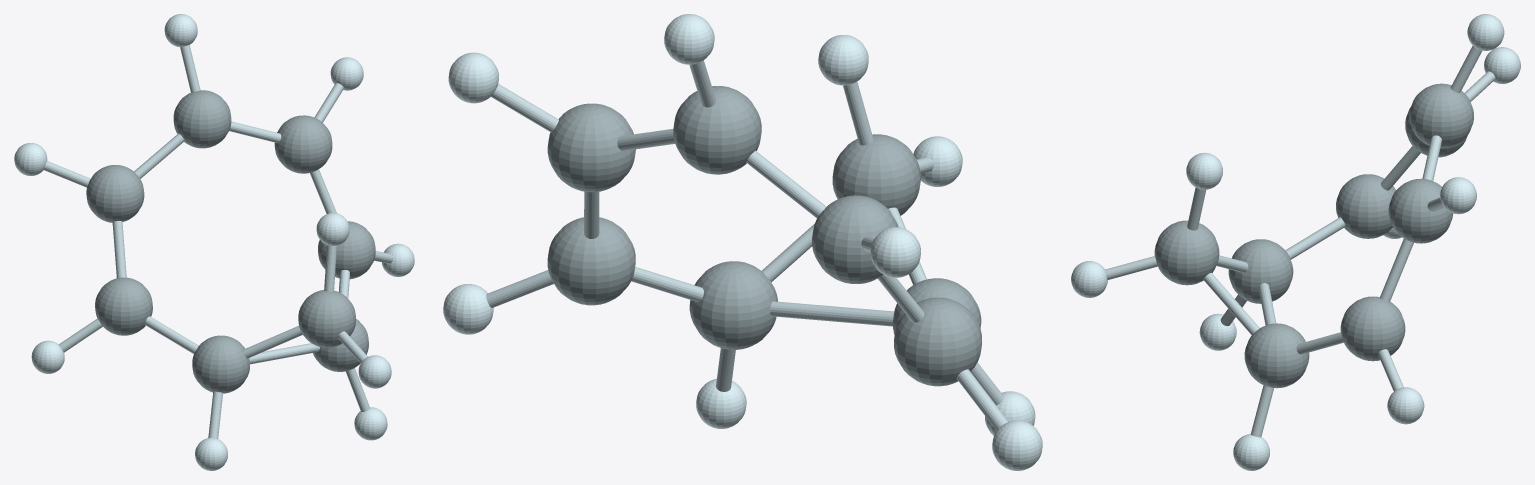
Rendered from irc_step_024.glb.
3 renders of one model, left to right at view 1: azimuth 30°, elevation 25°; view 2: azimuth 150°, elevation 25°; view 3: azimuth 270°, elevation 25°, orthographic. The views are drawn at different scales.
Visible parts, largest first — view 1: Renderer Node; view 2: Renderer Node; view 3: Renderer Node.
Part boxes in pixels (box(x1,y1,x2,y2)): Renderer Node: box(14, 14, 414, 470); Renderer Node: box(443, 14, 1042, 470); Renderer Node: box(1071, 14, 1520, 470).
Size of the model in its own units: 5.31 by 4.86 by 4.85.
